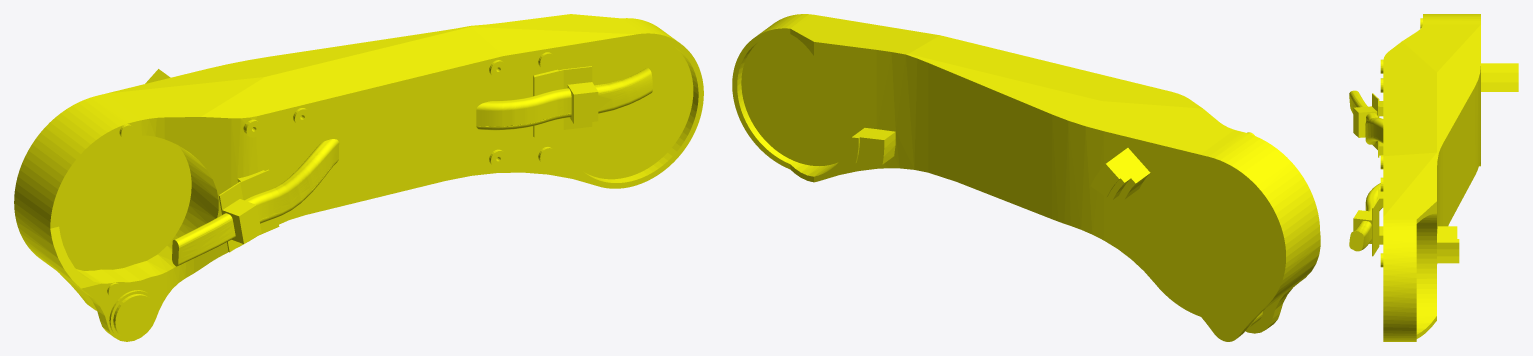
3 renders of one model, left to right at view 1: azimuth 30°, elevation 25°; view 2: azimuth 150°, elevation 25°; view 3: azimuth 270°, elevation 25°, orthographic. The views are drawn at different scales.
Parts seen in each view (by area): view 1: node; view 2: node; view 3: node.
Part boxes in pixels (x1,y1,x2,y2): node: (14, 14, 703, 341); node: (732, 14, 1320, 341); node: (1349, 14, 1518, 341).
Size of the model in its own units: 1426 by 468 by 417.
